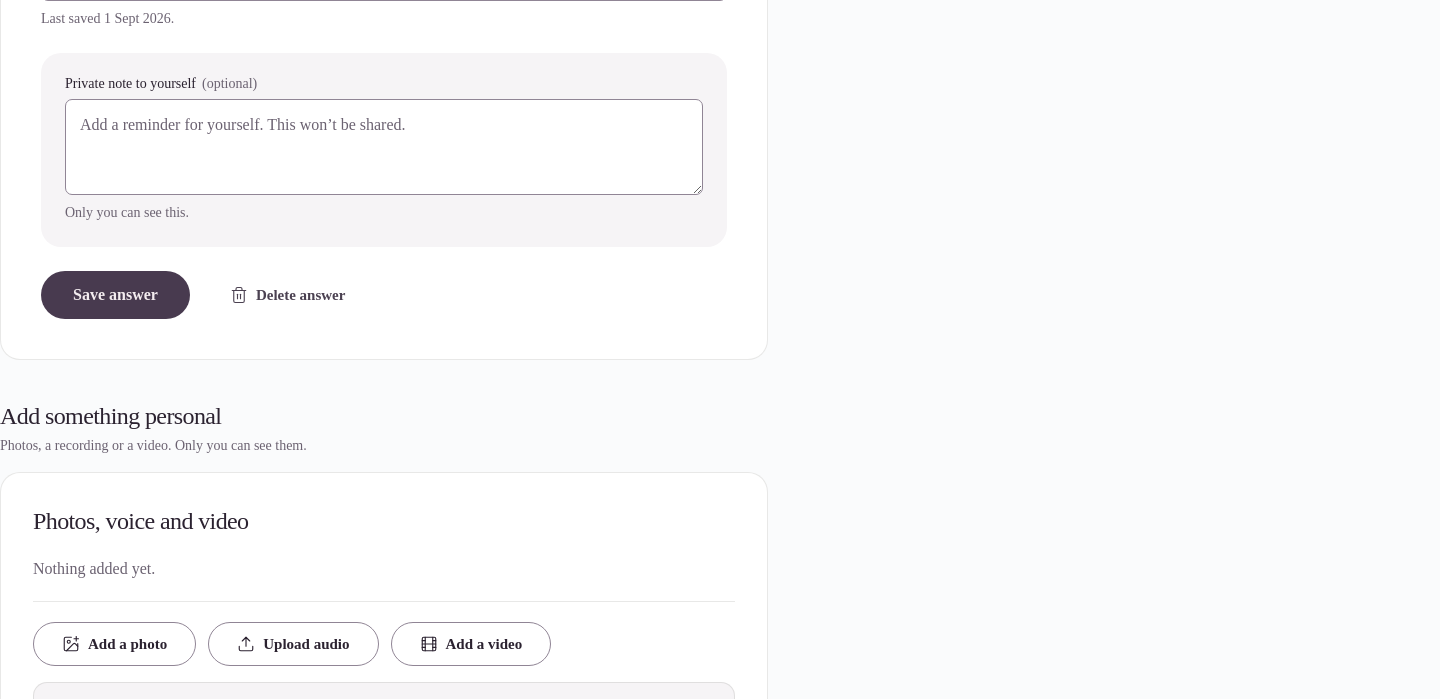
My Wishes editor: rich wishes (Phase 15B) › deleting a wish says messages already created stay
(page scrolled)
Click the button "Delete answer". click: point(288, 295)
box: [202,273,373,317]
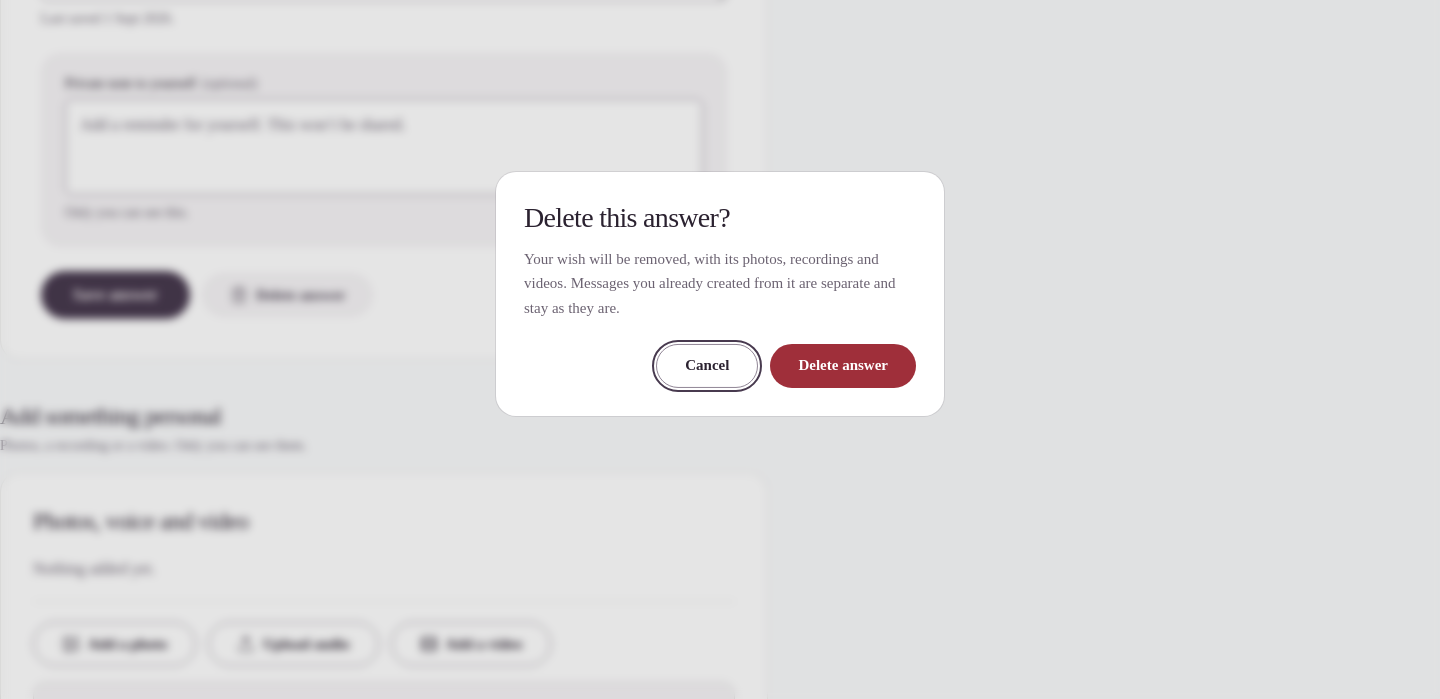
Check: the text "Messages you already created from it are separate and stay" is shown, box [524,251,896,316]
